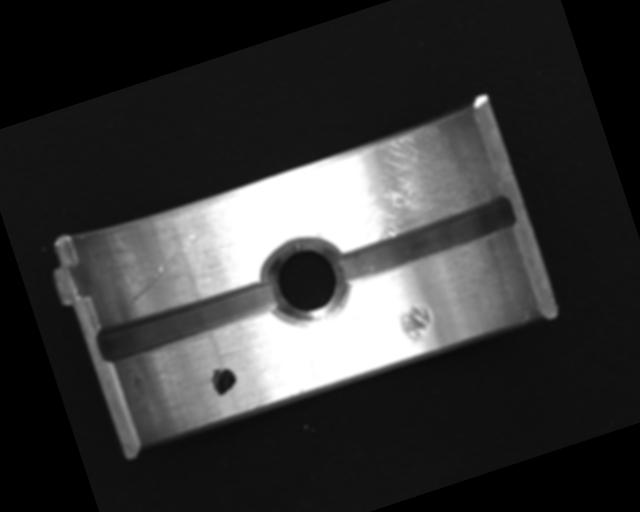blot: (207, 362, 241, 398)
bruise: (395, 301, 438, 348)
gap: (329, 191, 520, 287), (94, 277, 278, 367)
hole: (254, 227, 358, 336)
nick: (114, 230, 212, 304)
scratch: (304, 111, 495, 257)
